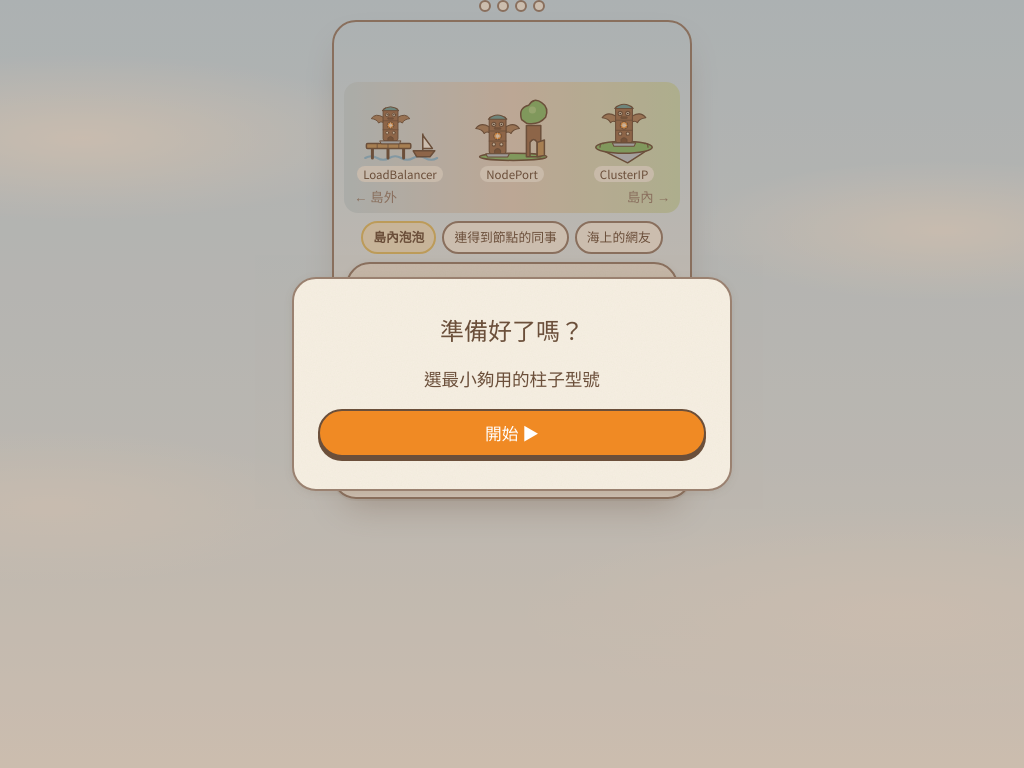
Test: Day15Game › 開太多層會被判錯並提示攻擊面
Click the button with test id "shell-start" at (512, 433), box [318,409,706,457]
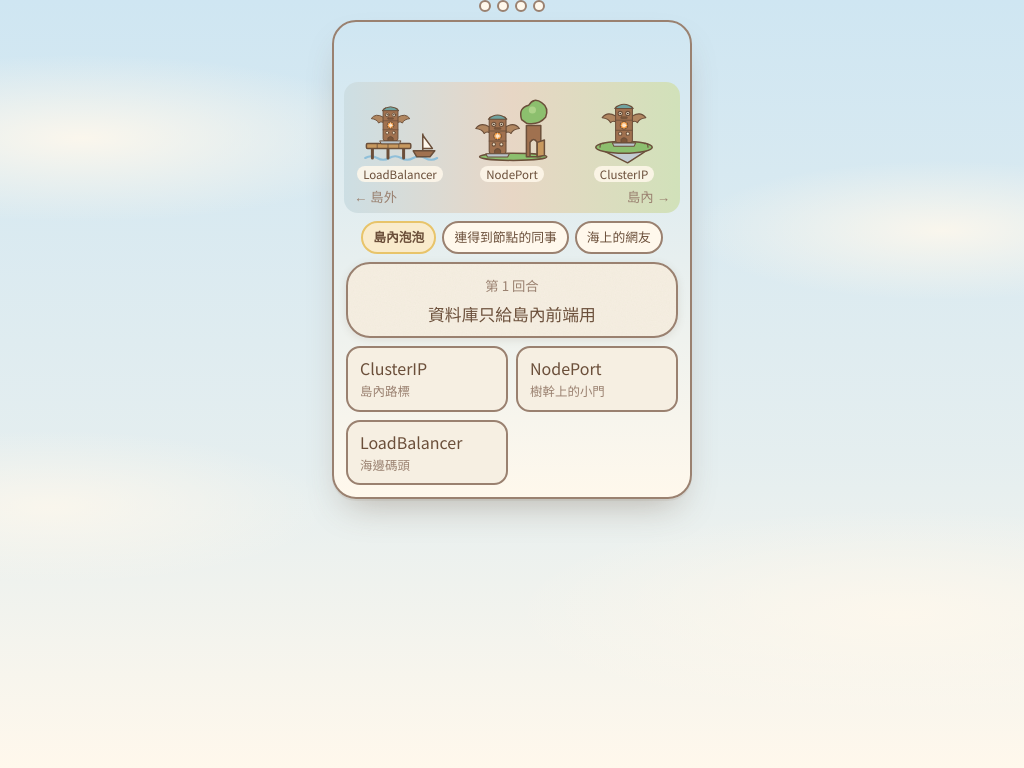
Click the button "LoadBalancer 海邊碼頭" at (427, 453), box [346,420,508,486]
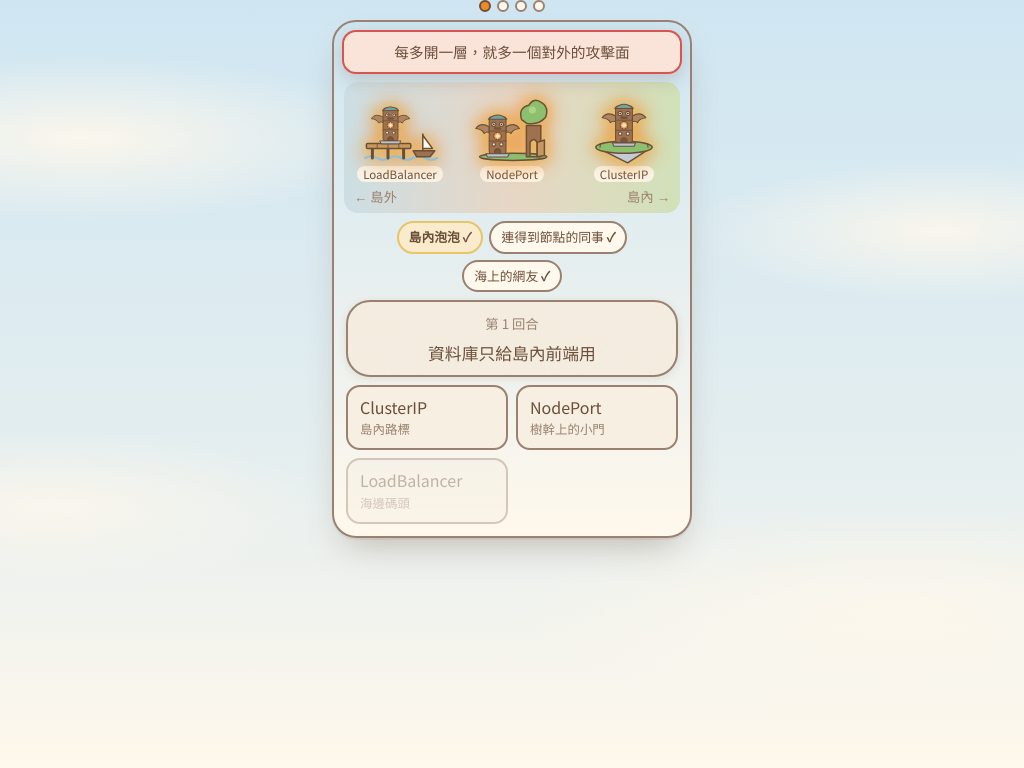
Now the message "每多開一層，就多一個對外的攻擊面" is shown, box [342,30,682,74]
